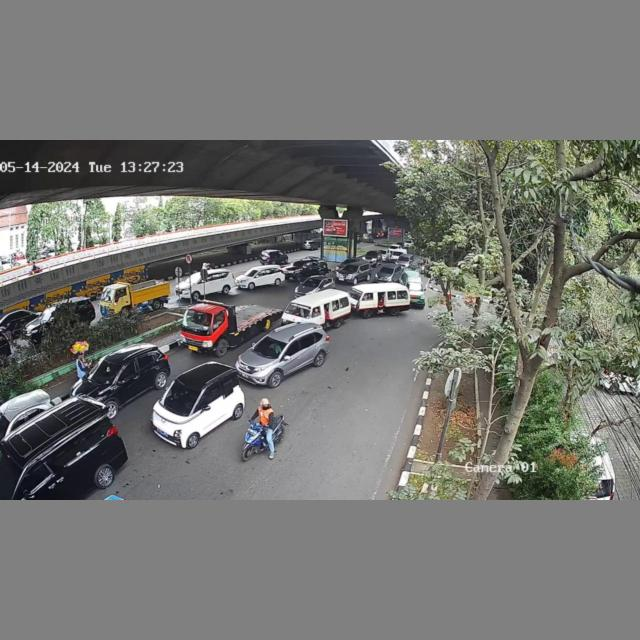windshield: (164, 376, 203, 417), (251, 336, 290, 362), (84, 362, 123, 385), (184, 311, 217, 331), (285, 300, 312, 319)
